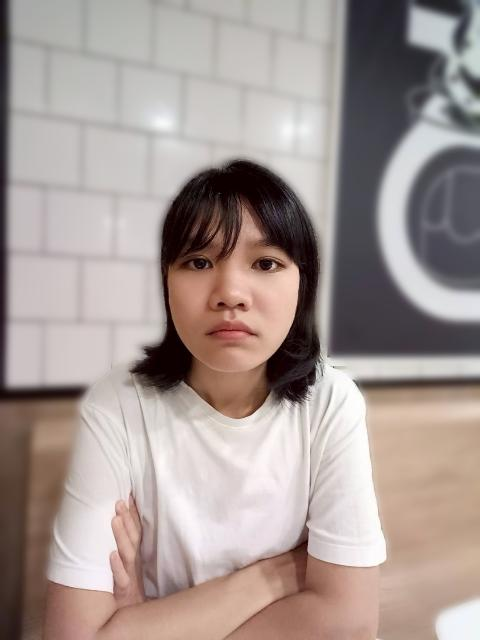fokus: (166, 192, 302, 378)
